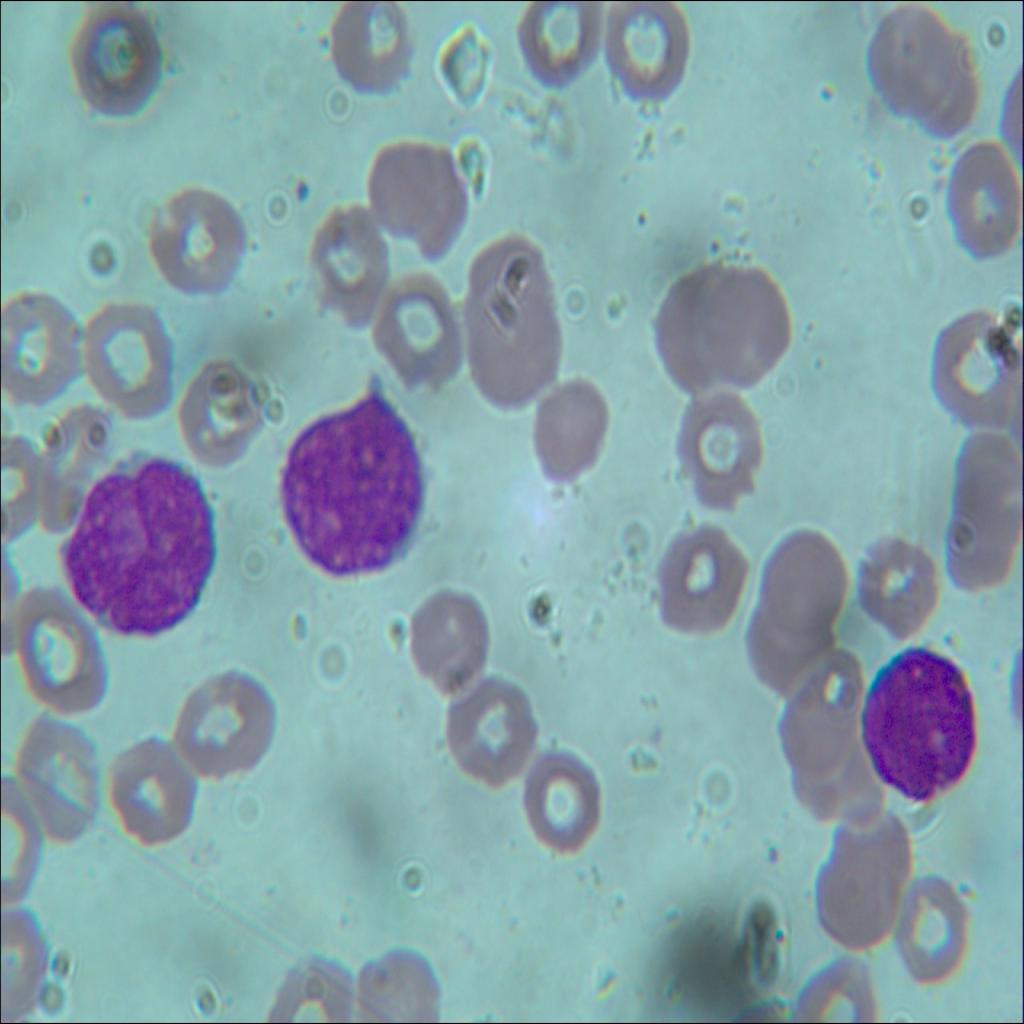Eritrosit: (172, 661, 274, 795), (63, 0, 166, 125), (78, 294, 176, 424), (141, 185, 248, 302), (11, 584, 106, 714), (378, 268, 468, 394), (936, 136, 1023, 266), (778, 731, 886, 834), (462, 294, 554, 414), (702, 260, 790, 385), (931, 307, 1023, 424), (18, 714, 102, 840), (34, 402, 118, 525), (176, 360, 266, 474), (762, 518, 848, 637), (658, 518, 742, 637), (654, 260, 730, 387), (109, 732, 190, 851), (678, 397, 762, 511), (306, 205, 386, 322), (376, 138, 461, 248), (444, 674, 533, 776), (893, 874, 975, 984), (598, 0, 687, 101), (469, 238, 553, 345), (0, 290, 78, 401), (781, 654, 859, 765), (514, 0, 608, 89), (519, 752, 608, 845), (406, 586, 484, 690), (530, 378, 606, 484), (866, 2, 948, 100), (746, 600, 838, 687), (809, 851, 891, 948), (329, 0, 415, 92), (911, 26, 979, 134), (948, 431, 1023, 527), (829, 801, 908, 889), (943, 503, 1019, 589), (863, 541, 935, 631)
Limfoblast: (58, 452, 216, 637), (282, 397, 428, 581), (866, 638, 978, 804)
Platelet: (286, 165, 318, 207), (762, 837, 791, 878)
